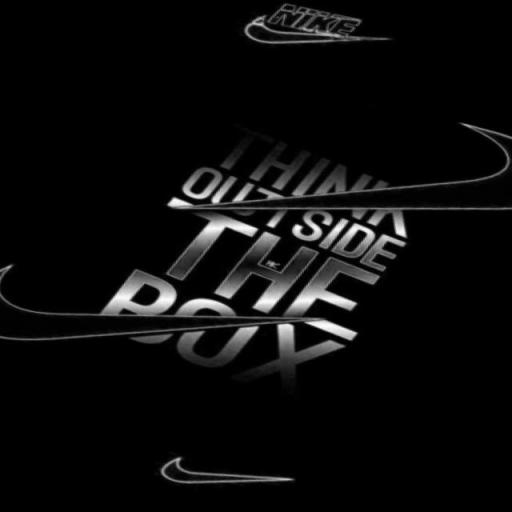Nike: (145, 433, 306, 512)
